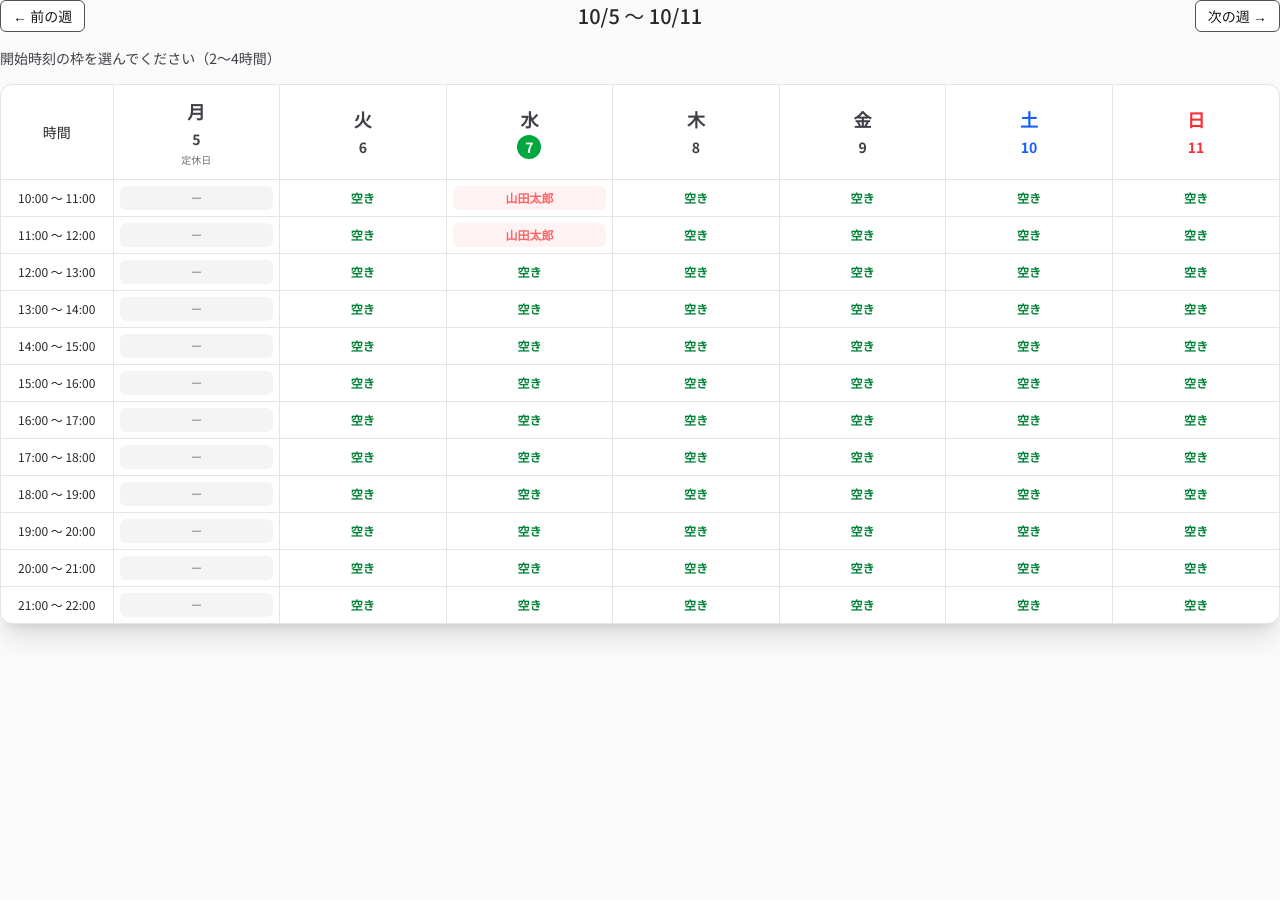
Scenario: 予約の詳細 › 予約者・種別・日時・料金を出し、会員の予約ならメールの注意書きを出す
Click the button with aria-label "10月7日（水） 10:00 〜 11:00 山田太郎 さんの予約": {"x": 529, "y": 198} [453,186,606,210]
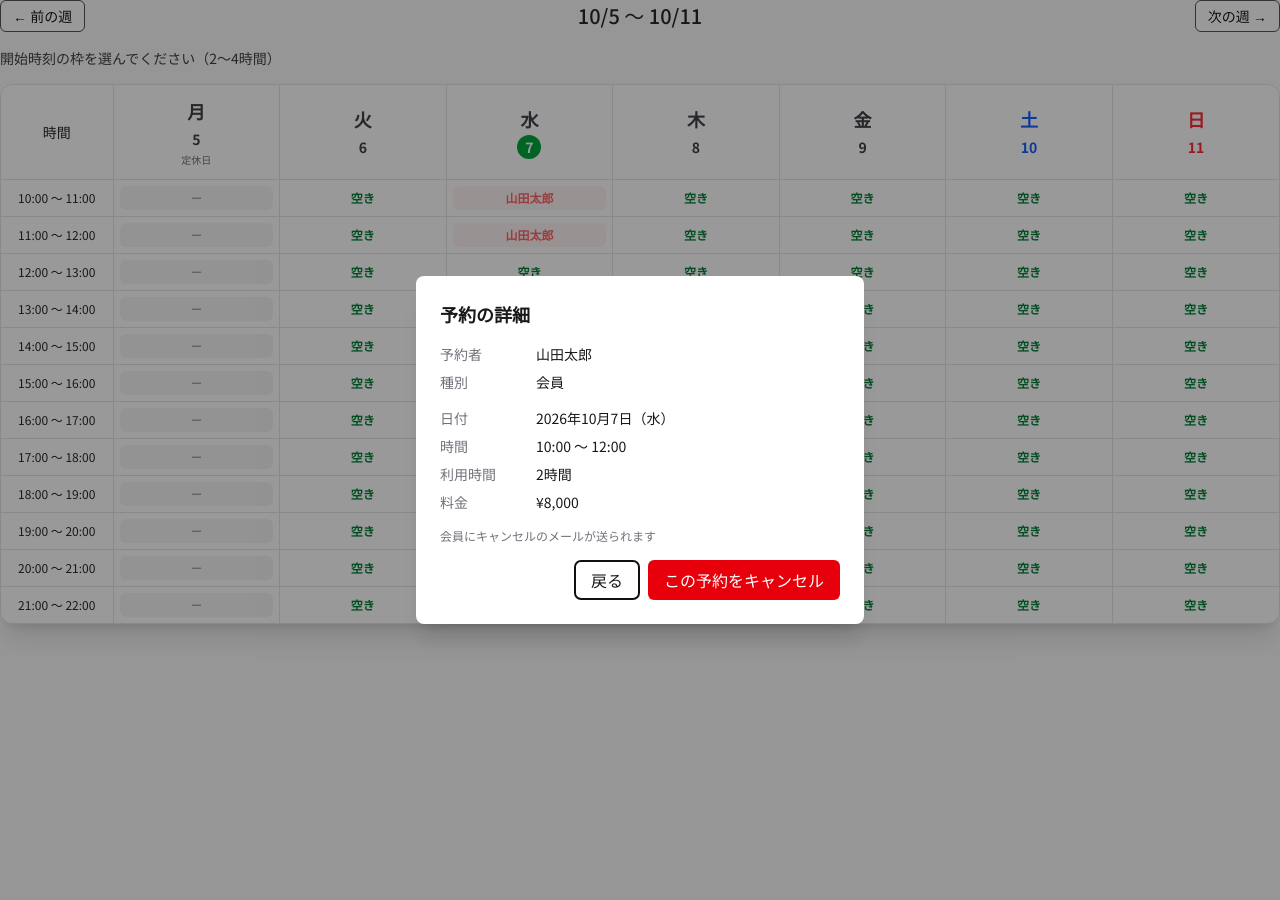
Expected: the dialog "予約の詳細" shows "山田太郎", [536,344,592,364]
Expected: the dialog "予約の詳細" shows "会員", [536,372,564,392]
Expected: the dialog "予約の詳細" shows "会員にキャンセルのメールが送られます", [440,527,656,544]
